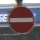No entry: (6, 5, 34, 34)
